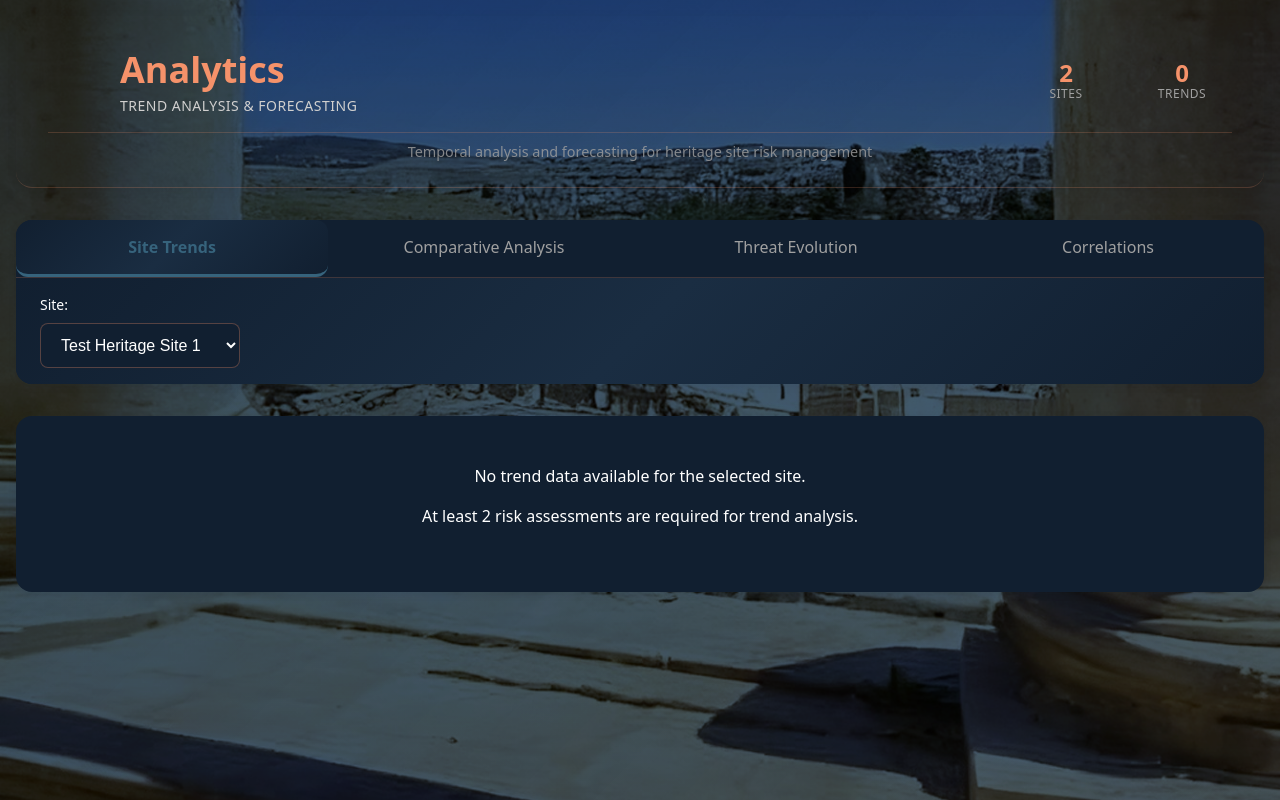
it: TrendDashboard › shows threat type selection for threat evolution view
The image size is (1280, 800).
Switch to threat evolution view
Click the button "Threat Evolution" at [796, 248], box top-left (640, 220), bottom-right (952, 277)
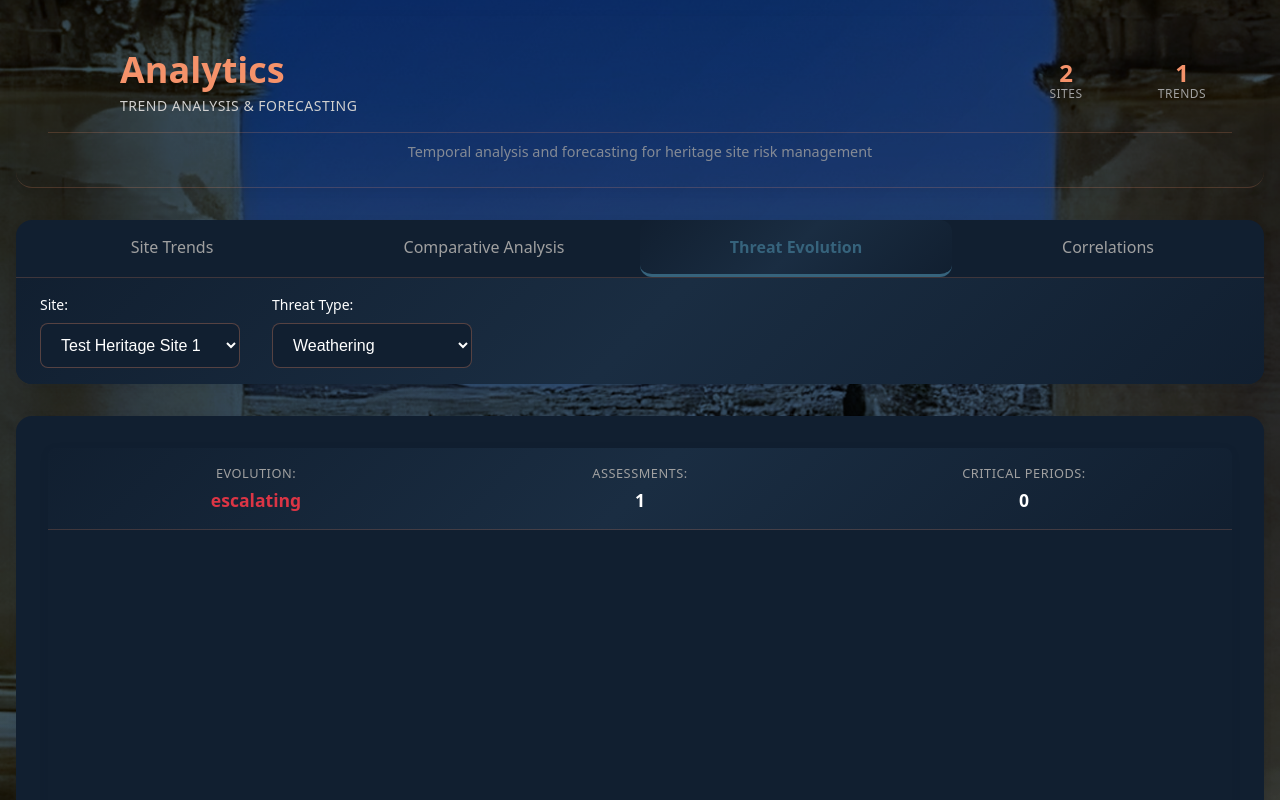
expect the dropdown labelled "Threat Type:" is shown: met, box top-left (272, 323), bottom-right (472, 368)
